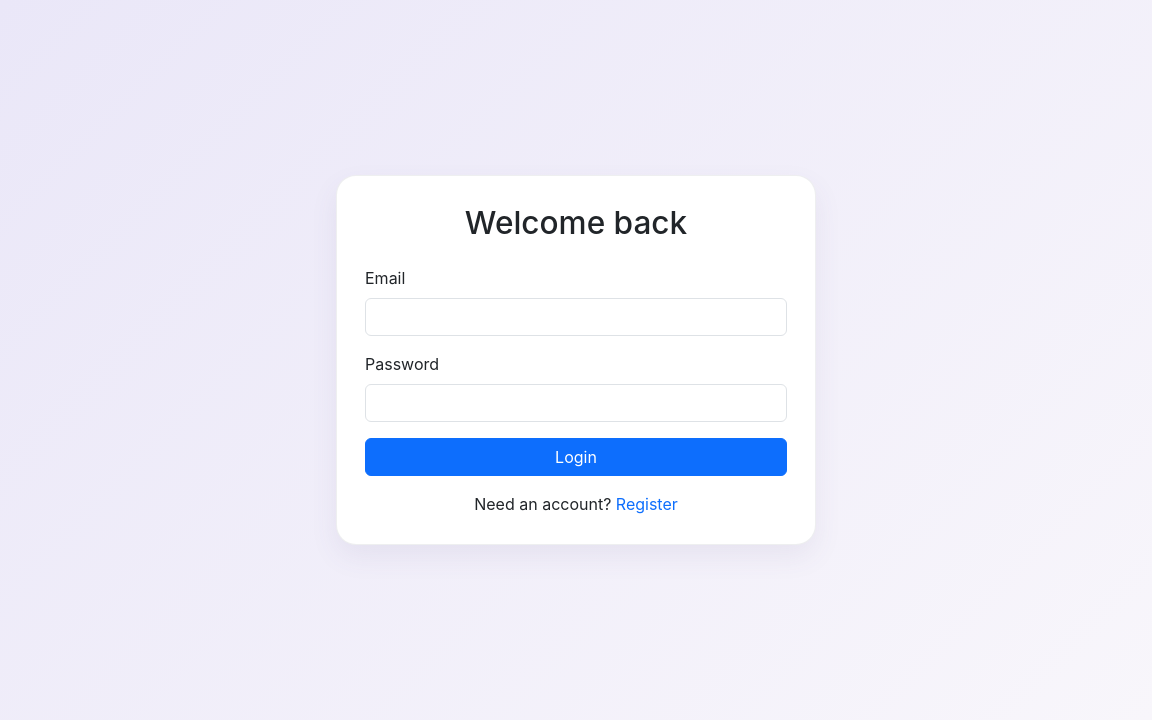
Test case: authentication feedback › shows login success after navigating to the dashboard
Type "test@example.com" into the field labelled "Email" at (576, 317), box x1=365 y1=298 x2=787 y2=336
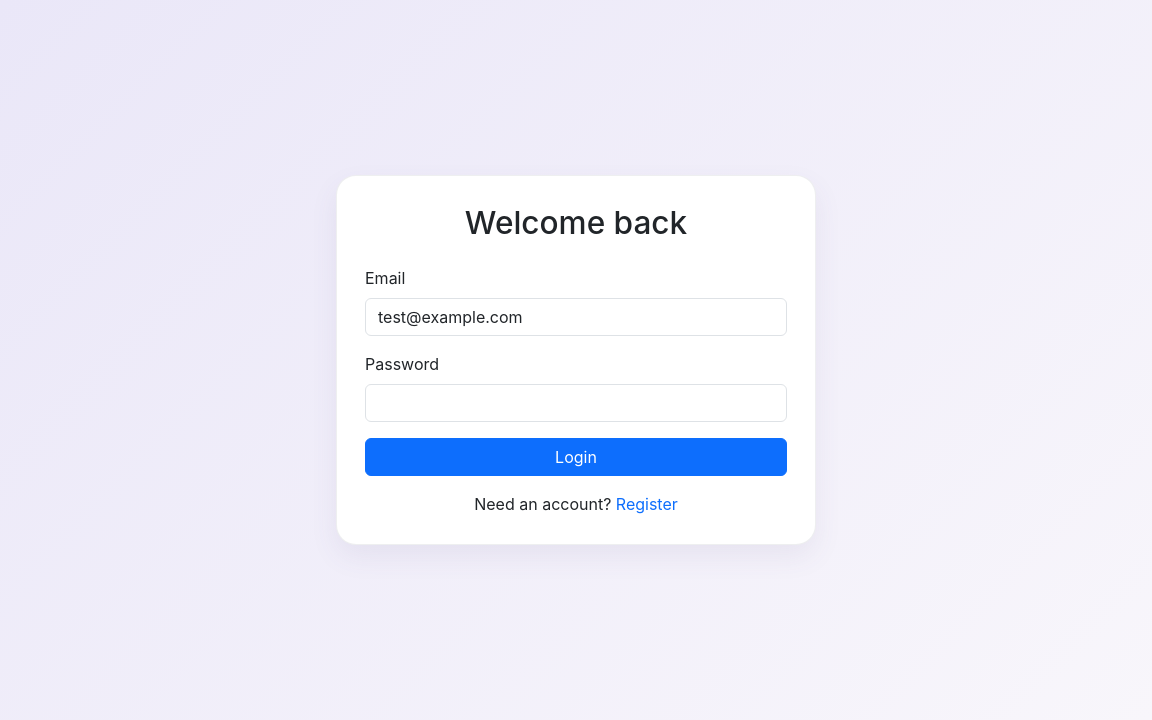
Type "secret123" into the password field labelled "Password" at (576, 403), box x1=365 y1=384 x2=787 y2=422
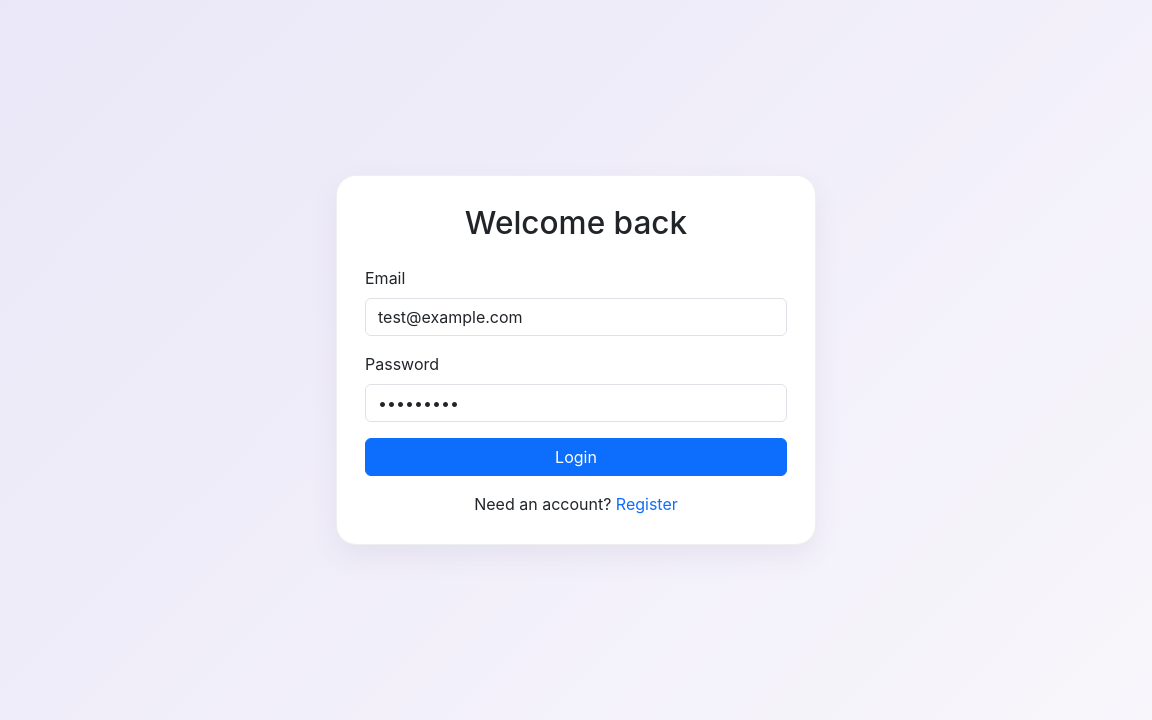
Click the button "Login" at (576, 457), box x1=365 y1=438 x2=787 y2=476
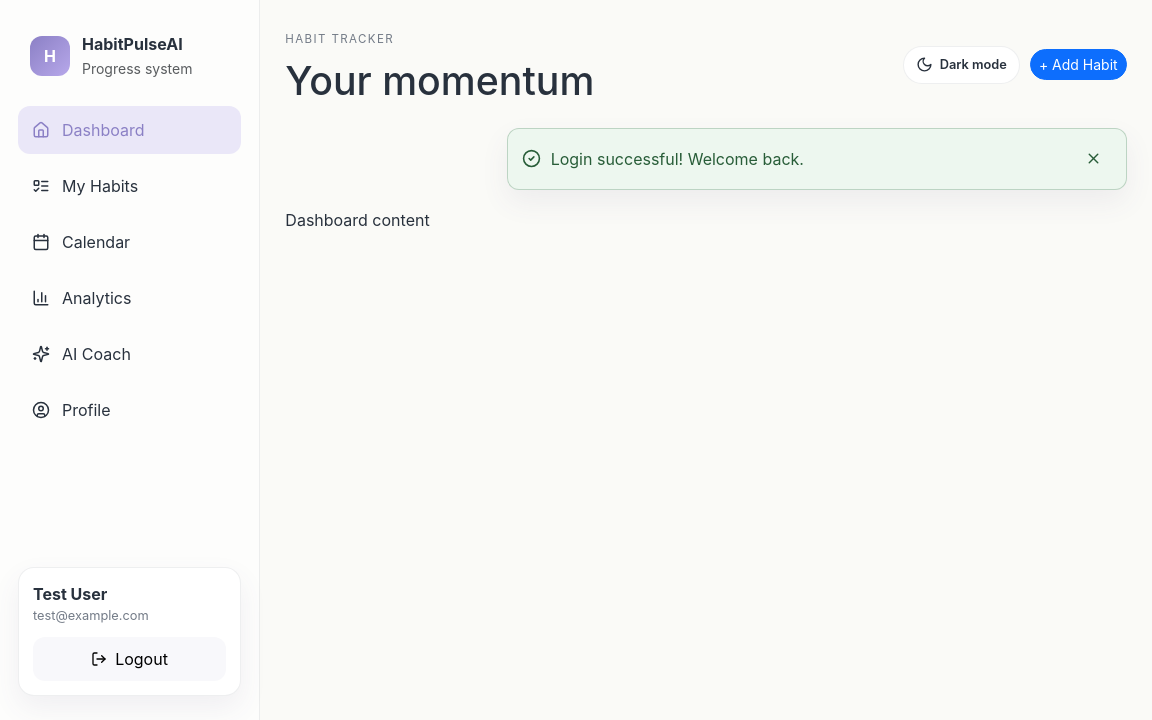
Now the text "Dashboard content" is shown, box x1=285 y1=210 x2=430 y2=230
Now the message reads "Login successful! Welcome back.", box x1=551 y1=149 x2=804 y2=169
